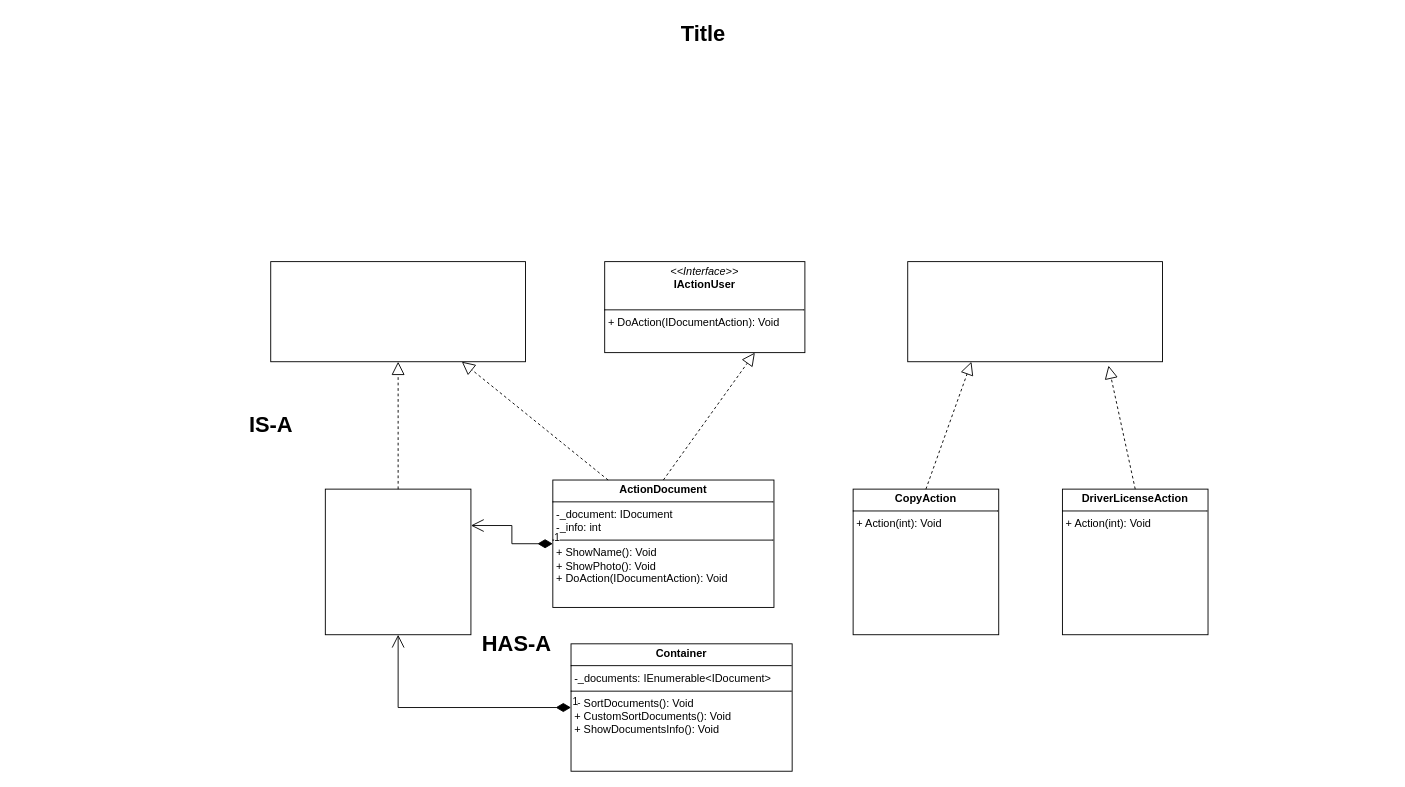
The diagram is 1405 pixels wide and 787 high, and some of its shapes have lost their labels. Here are the shapes that lost their labels. From the top down, the box of each, then its label:
(270, 261, 526, 362): <<Interface>> IDocument + ShowName(): Void + ShowPhoto2(): Void
(907, 261, 1163, 362): <<Interface>> IDocumentAction + Action(int): Void
(324, 488, 471, 635): Document - _name: String - _photo: String + ShowName(): Void + ShowPhoto(): Void
